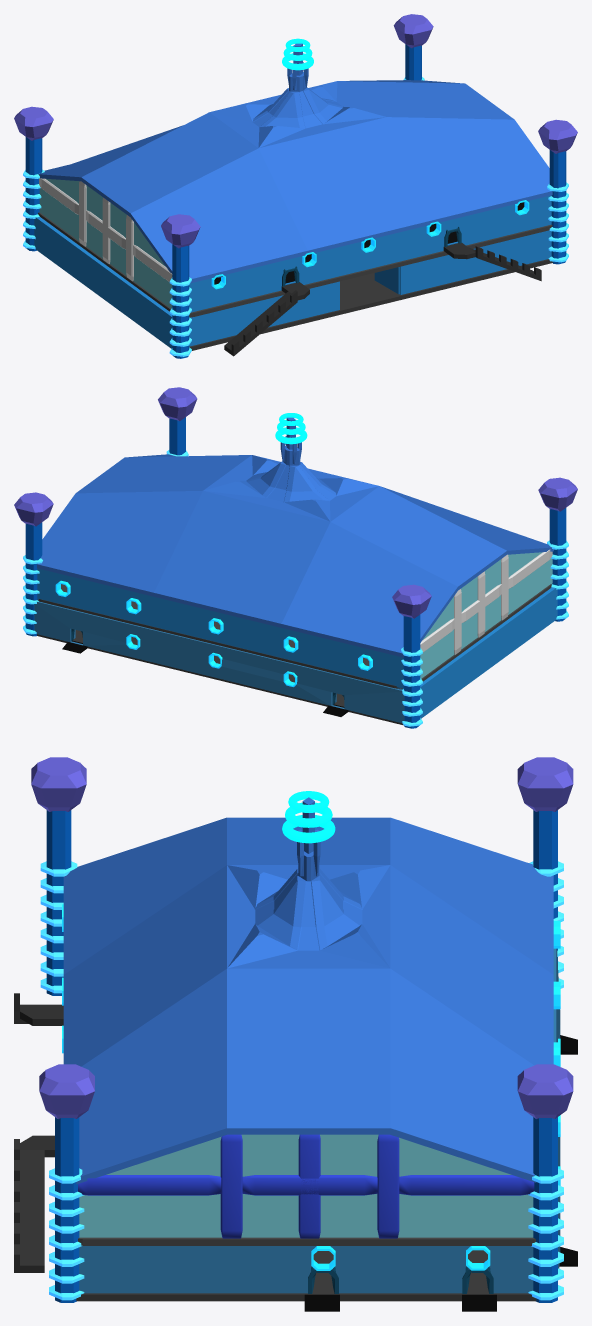
The model's file is canteen2.fbx.
3 renders of one model, top to bottom at view 1: azimuth 30°, elevation 25°; view 2: azimuth 150°, elevation 25°; view 3: azimuth 270°, elevation 25°, orthographic. The views are drawn at different scales.
Parts seen in each view (by area): view 1: Cube.006, Cube.014, Cube.007, Cube.017, Cube.008, Cube, Cube.021, Cube.001, Cube.005, Cube.020, Cube.041; view 2: Cube.006, Cube.014, Cube.010, Cube.007, Cube.017, Cube.008, Cube.021, Cube.020, Cube.005, Cube.041, Cube; view 3: Cube.006, Cube.017, Cube.010, Cube.028, Cube.007, Cube.008, Cube.020, Cube.001, Cube, Cube.005, Cube.022, Cube.041 (+2 smaller).
Boxes of the visible parts, x1=… form: Cube.006: x1=38, y1=43, x2=552, y2=283; Cube.014: x1=34, y1=195, x2=551, y2=348; Cube.007: x1=25, y1=44, x2=566, y2=358; Cube.017: x1=39, y1=178, x2=172, y2=308; Cube.008: x1=14, y1=14, x2=577, y2=248; Cube: x1=189, y1=259, x2=552, y2=350; Cube.021: x1=39, y1=178, x2=172, y2=281; Cube.001: x1=224, y1=243, x2=541, y2=356; Cube.005: x1=38, y1=212, x2=552, y2=317; Cube.020: x1=23, y1=77, x2=568, y2=356; Cube.041: x1=211, y1=200, x2=529, y2=289; Cube.006: x1=37, y1=417, x2=553, y2=657; Cube.014: x1=37, y1=568, x2=557, y2=718; Cube.010: x1=34, y1=600, x2=404, y2=722; Cube.007: x1=25, y1=417, x2=566, y2=728; Cube.017: x1=420, y1=552, x2=552, y2=678; Cube.008: x1=14, y1=387, x2=577, y2=618; Cube.021: x1=420, y1=549, x2=552, y2=654; Cube.020: x1=23, y1=450, x2=568, y2=726; Cube.005: x1=38, y1=584, x2=551, y2=688; Cube.041: x1=55, y1=580, x2=372, y2=686; Cube: x1=37, y1=630, x2=403, y2=725; Cube.006: x1=63, y1=797, x2=553, y2=1184; Cube.017: x1=79, y1=1134, x2=533, y2=1237; Cube.010: x1=79, y1=948, x2=560, y2=1293; Cube.028: x1=78, y1=1134, x2=534, y2=1238; Cube.007: x1=46, y1=810, x2=557, y2=1302; Cube.008: x1=31, y1=757, x2=573, y2=1118; Cube.020: x1=40, y1=861, x2=563, y2=1300; Cube.001: x1=14, y1=993, x2=63, y2=1272; Cube: x1=76, y1=1250, x2=536, y2=1301; Cube.005: x1=78, y1=1237, x2=535, y2=1245; Cube.022: x1=304, y1=1035, x2=577, y2=1311; Cube.041: x1=62, y1=904, x2=560, y2=1270.
Size of what is drawn, in the model's own units: 6434 by 3147 by 4604.
